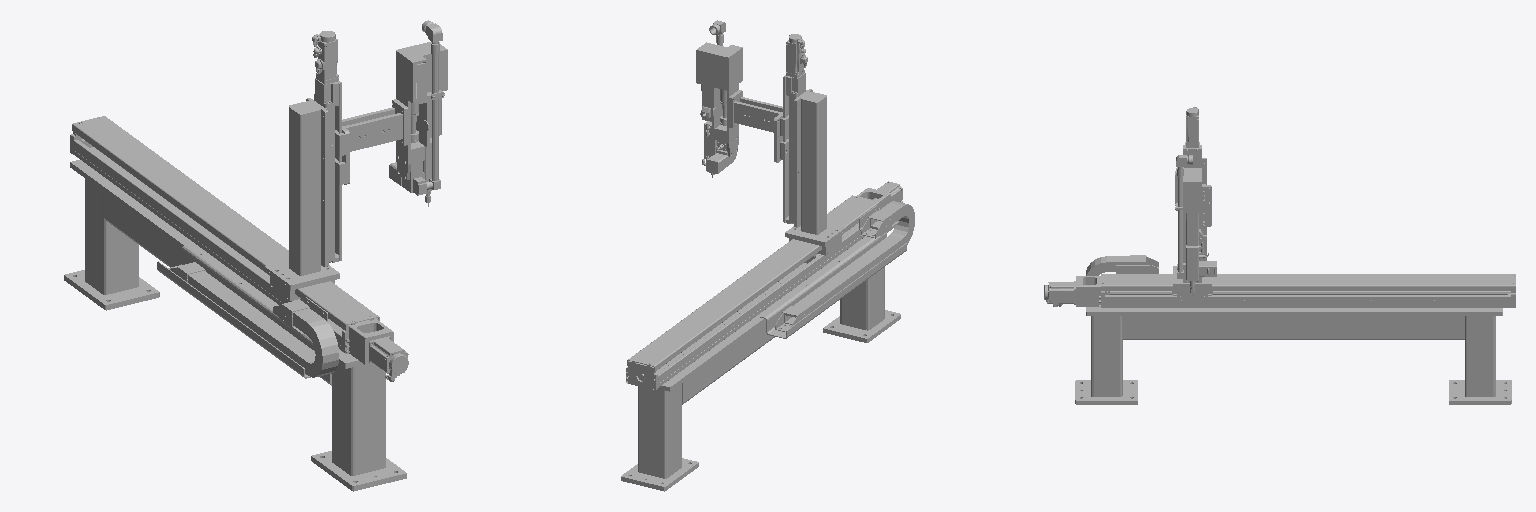
URDF robot description (m_4730788_001):
<?xml version="1.0" ?>
<!-- =================================================================================== -->
<!-- |    This document was autogenerated by xacro from [local-path]/projects/denso/ros2_ws/src/component_models/codenser/m_4730788_001/m_4730788_001_description/urdf/m_4730788_001.urdf.xacro | -->
<!-- |    EDITING THIS FILE BY HAND IS NOT RECOMMENDED                                 | -->
<!-- =================================================================================== -->
<!-- This URDF was automatically created by SolidWorks to URDF Exporter! Originally created by [author] ([email redacted]) 
     Commit Version: 1.6.1-12-ge40d886  Build Version: 1.6.8301.19567
     For more information, please see http://wiki.ros.org/sw_urdf_exporter -->
<robot name="m_4730788_001">
  <link name="m_4730788_001_base_link">
    <inertial>
      <origin rpy="0 0 0" xyz="-0.0079588 0.53745 0.29257"/>
      <mass value="25.945"/>
      <inertia ixx="3.1047" ixy="7.4183E-05" ixz="-0.00021729" iyy="0.061286" iyz="0.0088416" izz="3.1103"/>
    </inertial>
    <visual>
      <origin rpy="0 0 0" xyz="0 0 0"/>
      <geometry>
        <mesh filename="package://m_4730788_001_description/meshes/base_link.STL"/>
      </geometry>
      <material name="">
        <color rgba="0.75294 0.75294 0.75294 1"/>
      </material>
    </visual>
    <collision>
      <origin rpy="0 0 0" xyz="0 0 0"/>
      <geometry>
        <mesh filename="package://m_4730788_001_description/meshes/base_link.STL"/>
      </geometry>
    </collision>
  </link>
  <link name="m_4730788_001_link_1">
    <inertial>
      <origin rpy="0 0 0" xyz="0.035968 0.27493 0.22182"/>
      <mass value="5.6095"/>
      <inertia ixx="0.069776" ixy="-4.5144E-06" ixz="-0.00039418" iyy="0.068863" iyz="-3.9361E-06" izz="0.0062752"/>
    </inertial>
    <visual>
      <origin rpy="0 0 0" xyz="0 0 0"/>
      <geometry>
        <mesh filename="package://m_4730788_001_description/meshes/link_1.STL"/>
      </geometry>
      <material name="">
        <color rgba="0.75294 0.75294 0.75294 1"/>
      </material>
    </visual>
    <collision>
      <origin rpy="0 0 0" xyz="0 0 0"/>
      <geometry>
        <mesh filename="package://m_4730788_001_description/meshes/link_1.STL"/>
      </geometry>
    </collision>
  </link>
  <joint name="m_4730788_001_joint_1" type="prismatic">
    <origin rpy="0 0 0" xyz="0 -0.0041461 0.37535"/>
    <parent link="m_4730788_001_base_link"/>
    <child link="m_4730788_001_link_1"/>
    <axis xyz="0 1 0"/>
    <limit effort="0.1" lower="0" upper="1.0" velocity="0.1"/>
  </joint>
  <link name="m_4730788_001_link_2">
    <inertial>
      <origin rpy="0 0 0" xyz="0.1819 1.4438E-05 -0.12956"/>
      <mass value="1.8798"/>
      <inertia ixx="0.0025187" ixy="-1.2207E-05" ixz="8.5334E-07" iyy="0.0027656" iyz="1.0645E-07" izz="0.0012183"/>
    </inertial>
    <visual>
      <origin rpy="0 0 0" xyz="0 0 0"/>
      <geometry>
        <mesh filename="package://m_4730788_001_description/meshes/link_2.STL"/>
      </geometry>
      <material name="">
        <color rgba="0.75294 0.75294 0.75294 1"/>
      </material>
    </visual>
    <collision>
      <origin rpy="0 0 0" xyz="0 0 0"/>
      <geometry>
        <mesh filename="package://m_4730788_001_description/meshes/link_2.STL"/>
      </geometry>
    </collision>
  </link>
  <joint name="m_4730788_001_joint_2" type="prismatic">
    <origin rpy="0 0 0" xyz="0.074922 0.27494 0.46365"/>
    <parent link="m_4730788_001_link_1"/>
    <child link="m_4730788_001_link_2"/>
    <axis xyz="0 0 1"/>
    <limit effort="0.1" lower="-0.2" upper="0.25" velocity="0.1"/>
  </joint>
</robot>

--- Facts derived from the render (not from the file) ---
3 views of the same robot in one strip: view 1: azimuth 30°, elevation 25°; view 2: azimuth 150°, elevation 25°; view 3: azimuth 270°, elevation 25° (orthographic).
Robot: m_4730788_001 — 3 links, 2 joints (2 prismatic); root link m_4730788_001_base_link; default pose: all joints at 0.
Links seen in each view (by area): view 1: m_4730788_001_base_link, m_4730788_001_link_1, m_4730788_001_link_2; view 2: m_4730788_001_base_link, m_4730788_001_link_1, m_4730788_001_link_2; view 3: m_4730788_001_base_link, m_4730788_001_link_2, m_4730788_001_link_1.
Link boxes in pixels (left/top/right/bottom): m_4730788_001_base_link: left=64, top=116, right=408, bottom=491; m_4730788_001_link_1: left=265, top=31, right=341, bottom=301; m_4730788_001_link_2: left=335, top=20, right=447, bottom=206; m_4730788_001_base_link: left=621, top=181, right=914, bottom=491; m_4730788_001_link_1: left=783, top=34, right=846, bottom=263; m_4730788_001_link_2: left=696, top=20, right=788, bottom=177; m_4730788_001_base_link: left=1044, top=255, right=1515, bottom=404; m_4730788_001_link_2: left=1175, top=155, right=1216, bottom=296; m_4730788_001_link_1: left=1172, top=107, right=1212, bottom=296.
Bounding box of the posed robot: 0.5365 × 1.49 × 1.02 m (x, y, z).
Meshes: 3 distinct files referenced, 3 mesh visuals loaded (3 binary STL).
